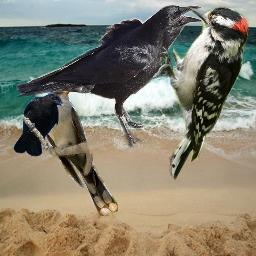Crow: (16, 4, 204, 150), (13, 93, 65, 157)
Cuckoo: (41, 87, 118, 216)
Woodpecker: (153, 3, 249, 180)
